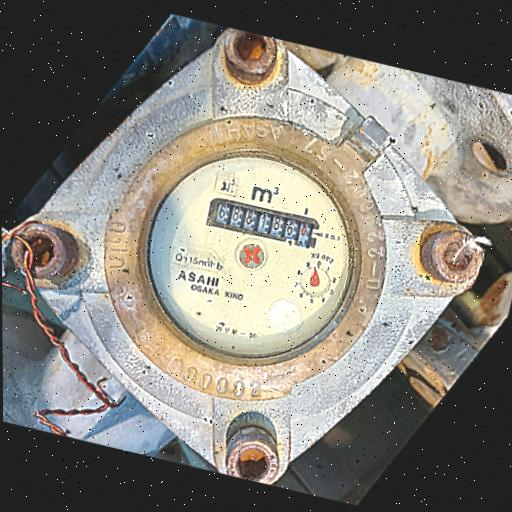1: (257, 210, 271, 232)
6: (214, 202, 231, 224), (284, 217, 298, 239)
8: (296, 221, 310, 247), (271, 213, 285, 236), (230, 205, 244, 227), (244, 208, 257, 230)
border_water_meter_number: (205, 194, 322, 251)
